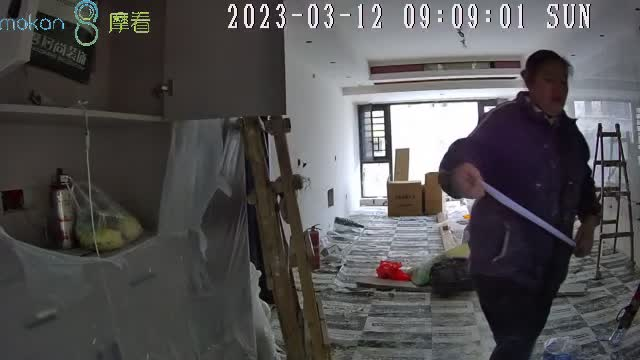people: (438, 50, 604, 360)
window: (359, 99, 509, 200)
